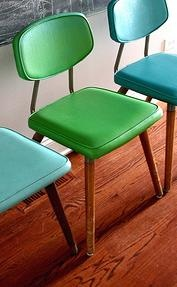obstacle: (13, 13, 161, 254)
